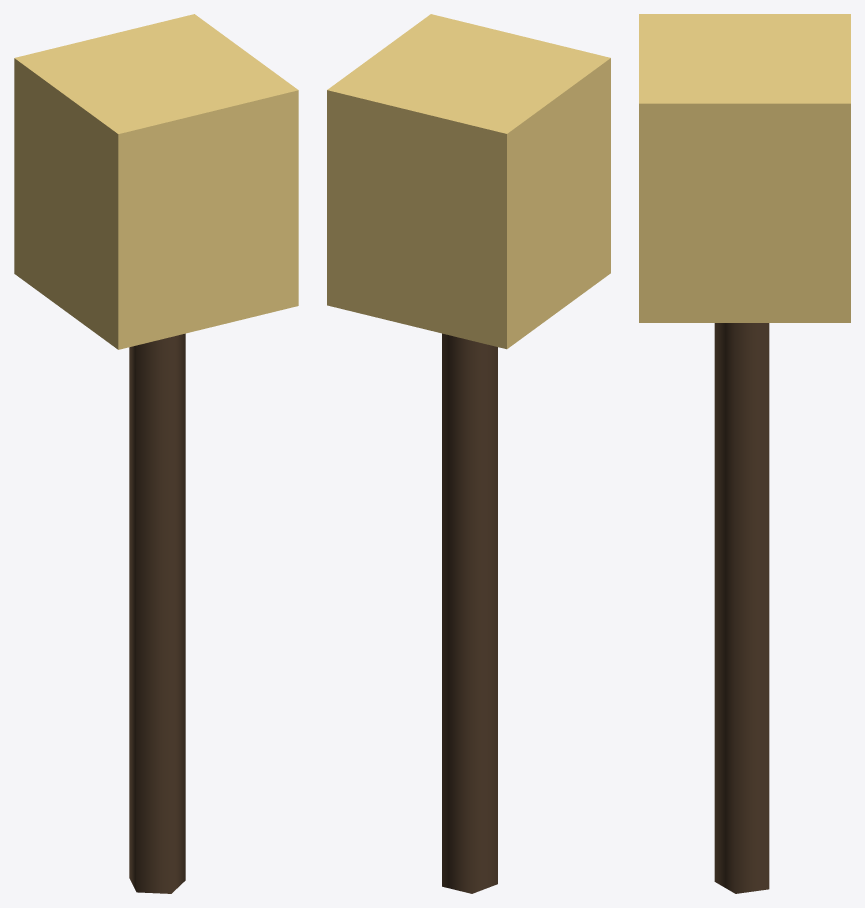
File: lantern.glb
3 views of the same model, side by side, from view 1: azimuth 30°, elevation 25°; view 2: azimuth 150°, elevation 25°; view 3: azimuth 270°, elevation 25° (orthographic).
Visible parts, largest first — view 1: lantern; view 2: lantern; view 3: lantern.
Boxes of the visible parts, <box> form: lantern: <box>14,14,298,893</box>; lantern: <box>327,14,610,893</box>; lantern: <box>639,14,850,893</box>.
Bounding box in the file's own units: 0.35 × 1.5 × 0.35.
